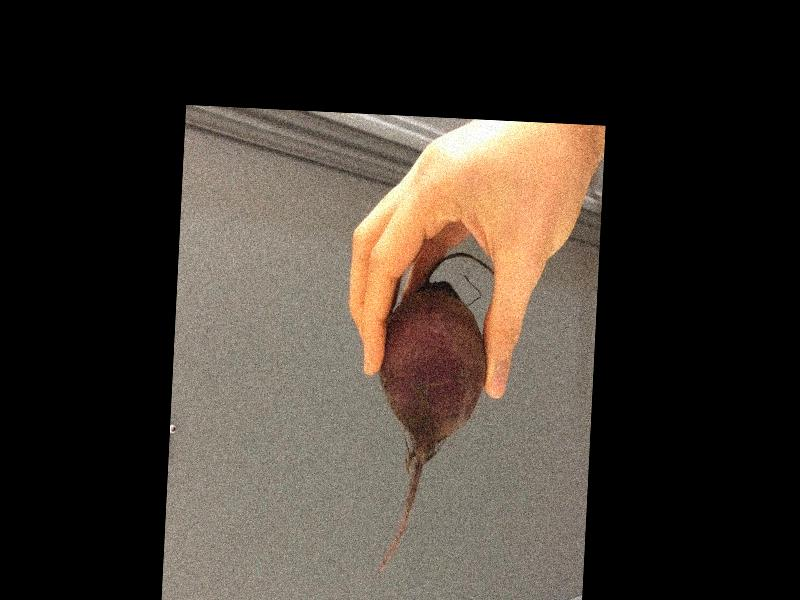Beet: (371, 251, 493, 584)
